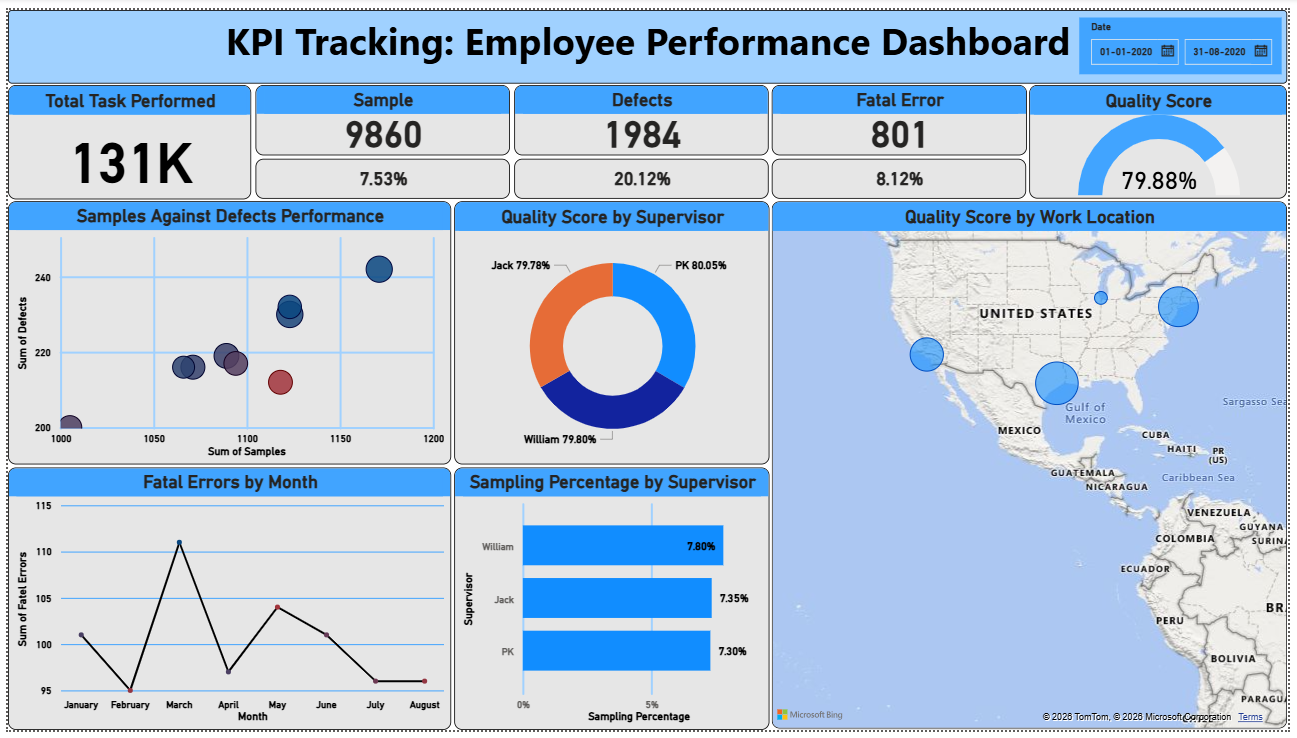

What the dashboard file says about the page in this screenshot:
{"tool":"powerbi","page":{"name":" Dashboard","canvas":[1280,720],"ordinal":0},"visuals":[{"type":"card","title":"Total Task Performed","fields":{"Values":["Sum(Quality Data.Total Task)"]},"box":[0,75.2,243.6,114.6],"z":0},{"type":"card","title":"Sample","fields":{"Values":["Sum(Quality Data.Samples)"]},"box":[248.1,75.2,254.3,70.7],"z":1000},{"type":"card","fields":{"Values":["Quality Data.Sampling Percentage"]},"box":[247.9,149.1,254.6,39.6],"z":2000},{"type":"card","title":"Defects","fields":{"Values":["Sum(Quality Data.Defects)"]},"box":[506.9,75.2,254.3,70.7],"z":3000},{"type":"card","fields":{"Values":["Quality Data.Defect Percentage"]},"box":[506.7,149,254.6,39.6],"z":4000},{"type":"card","title":"Fatal Error","fields":{"Values":["Sum(Quality Data.Fatel Errors)"]},"box":[763.9,75.2,255.2,70.7],"z":5000},{"type":"card","fields":{"Values":["Quality Data.Fatal Error Percentage"]},"box":[764.2,149,254.6,39.6],"z":6000},{"type":"gauge","fields":{"Y":["Quality Data.Quality Score"]},"box":[1021.8,75.2,257.9,113.7],"z":7000},{"type":"scatterChart","title":"Samples Against Defects Performance","fields":{"Y":["Sum(Quality Data.Defects)"],"X":["Sum(Quality Data.Samples)"],"Category":["Emp Master.EMP Name"],"Size":["Sum(Quality Data.Fatel Errors)"]},"box":[0,191.4,443.5,263],"z":8000},{"type":"lineChart","title":"Fatal Errors by Month","fields":{"Category":["Quality Data.Date.Variation.Date Hierarchy.Year","Quality Data.Date.Variation.Date Hierarchy.Quarter","Quality Data.Date.Variation.Date Hierarchy.Month","Quality Data.Date.Variation.Date Hierarchy.Day"],"Y":["Sum(Quality Data.Fatel Errors)"]},"box":[0,457,443.5,262.2],"z":9000},{"type":"donutChart","fields":{"Category":["Emp Master.Supervisor"],"Y":["Quality Data.Quality Score"]},"box":[446,191.4,315.3,263],"z":10000},{"type":"clusteredBarChart","fields":{"Category":["Emp Master.Supervisor"],"Y":["Quality Data.Sampling Percentage"]},"box":[446,457,315.3,262.2],"z":11000},{"type":"map","fields":{"Category":["Emp Master.Work Location"],"Size":["Quality Data.Quality Score"]},"box":[763.8,191.4,515.1,526.9],"z":12000},{"type":"textbox","box":[0,0,1278.8,73.4],"z":13000},{"type":"slicer","fields":{"Values":["Quality Data.Date"]},"box":[1071,8.1,202.4,56.4],"z":14000}]}

Visuals, with their boxes in screenshot pixels (x1, y1, x2, y2), scaled from the page's 1280x720 canvas onto the 1297x738 screenshot:
"Total Task Performed" card: bbox=(0, 77, 247, 195)
"Sample" card: bbox=(251, 77, 509, 150)
card - Quality Data.Sampling Percentage: bbox=(251, 153, 509, 193)
"Defects" card: bbox=(514, 77, 771, 150)
card - Quality Data.Defect Percentage: bbox=(513, 153, 771, 193)
"Fatal Error" card: bbox=(774, 77, 1033, 150)
card - Quality Data.Fatal Error Percentage: bbox=(774, 153, 1032, 193)
gauge - Quality Data.Quality Score: bbox=(1035, 77, 1296, 194)
"Samples Against Defects Performance" scatterChart: bbox=(0, 196, 449, 466)
"Fatal Errors by Month" lineChart: bbox=(0, 468, 449, 737)
donutChart - Emp Master.Supervisor x Quality Data.Quality Score: bbox=(452, 196, 771, 466)
clusteredBarChart - Emp Master.Supervisor x Quality Data.Sampling Percentage: bbox=(452, 468, 771, 737)
map - Emp Master.Work Location x Quality Data.Quality Score: bbox=(774, 196, 1296, 736)
textbox: bbox=(0, 0, 1296, 75)
slicer - Quality Data.Date: bbox=(1085, 8, 1290, 66)
